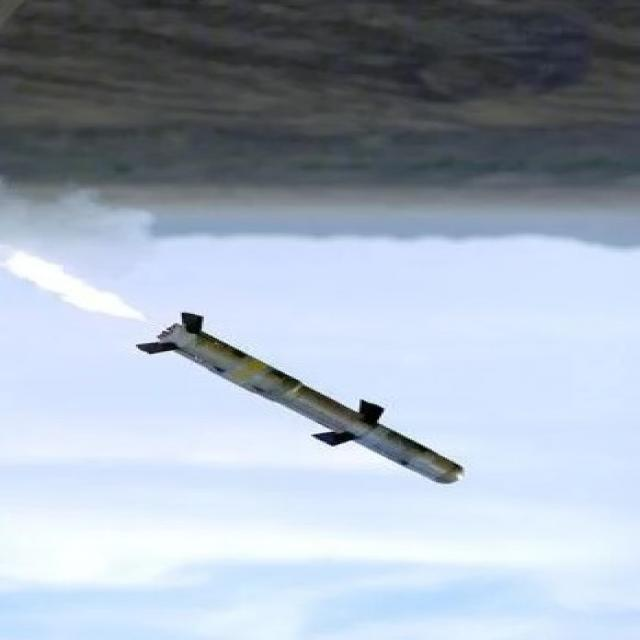missile: (133, 307, 468, 487)
